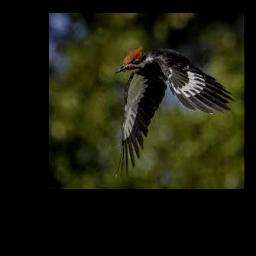Woodpecker: (115, 45, 235, 178)
